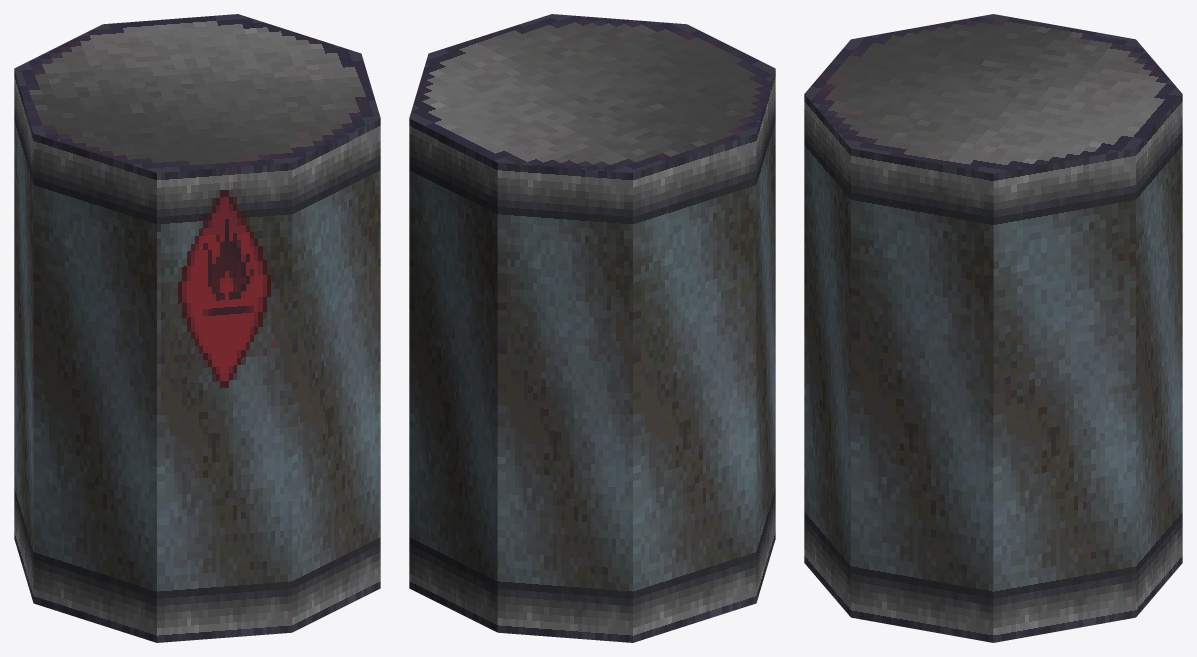
The model's file is barrel.fbx.
3 renders of one model, left to right at view 1: azimuth 30°, elevation 25°; view 2: azimuth 150°, elevation 25°; view 3: azimuth 270°, elevation 25°, orthographic.
Visible parts, largest first — view 1: Barrel; view 2: Barrel; view 3: Barrel.
Part boxes in pixels (x1,y1,x2,y2): Barrel: (14, 14, 380, 642); Barrel: (409, 14, 775, 642); Barrel: (804, 14, 1182, 642).
Size of the model in its own units: 200 by 274 by 200.
